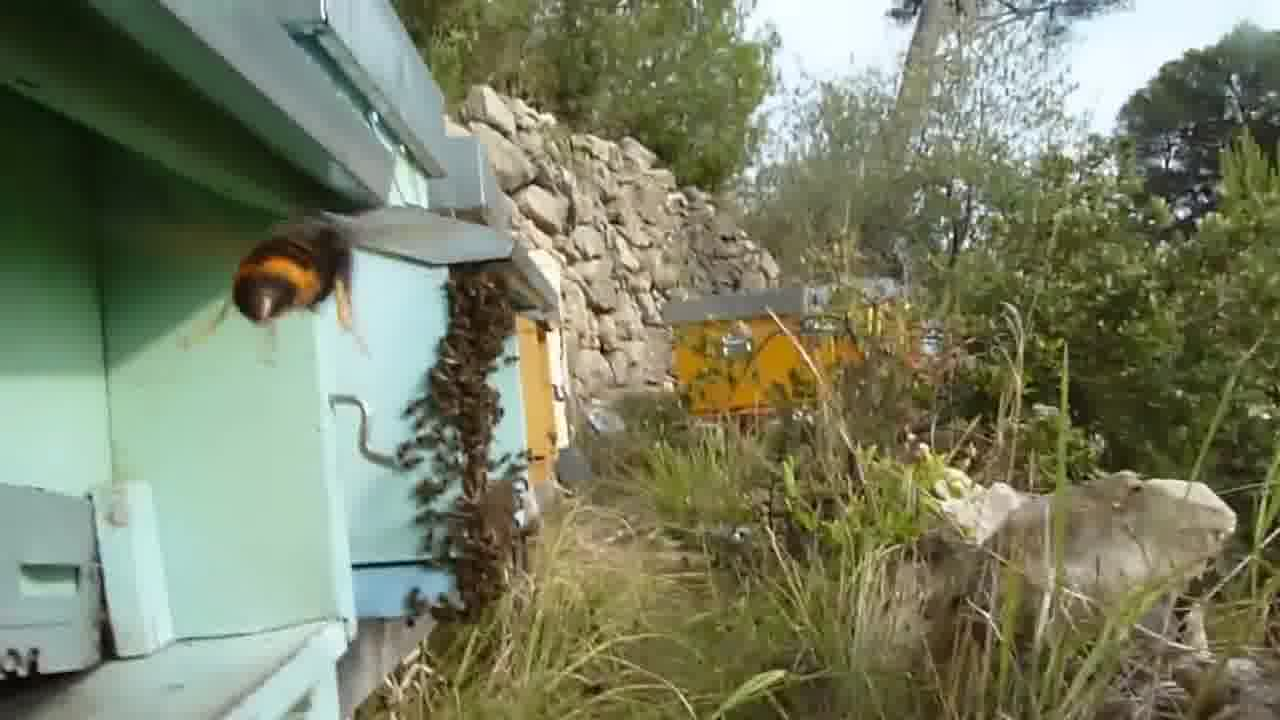bee: (409, 382, 499, 488), (417, 486, 501, 584), (438, 278, 521, 372)
hornet: (201, 179, 388, 345)
